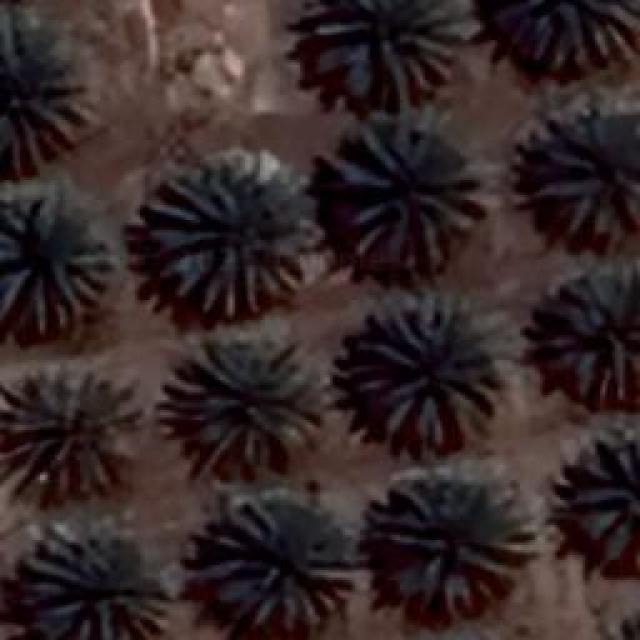PalmTree: (142, 152, 320, 318), (345, 298, 500, 452), (157, 335, 320, 470), (375, 475, 535, 610), (337, 132, 485, 272), (202, 502, 356, 630), (0, 367, 142, 494), (20, 528, 170, 638), (310, 0, 462, 105), (0, 195, 110, 338), (0, 12, 92, 169), (534, 110, 638, 240), (542, 268, 638, 402), (492, 0, 640, 71), (568, 430, 638, 570), (606, 600, 640, 640)
